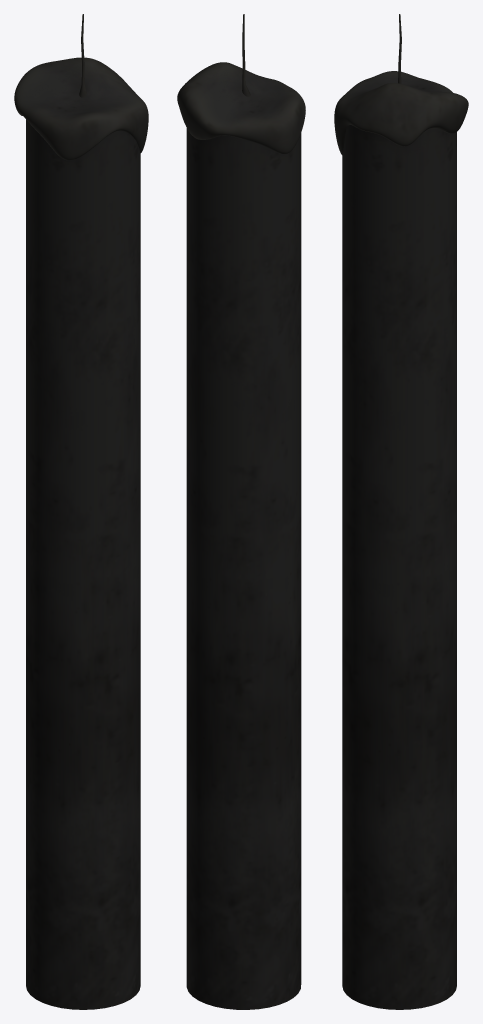
The model's file is Vela1.fbx.
3 renders of one model, left to right at view 1: azimuth 90°, elevation 25°; view 2: azimuth 150°, elevation 25°; view 3: azimuth 270°, elevation 25°, orthographic.
Visible parts, largest first — view 1: Vela1; view 2: Vela1; view 3: Vela1.
Part boxes in pixels (x1,y1,x2,y2): Vela1: [14, 14, 148, 1009]; Vela1: [177, 14, 305, 1009]; Vela1: [334, 14, 468, 1009].
Bounding box in the file's own units: 12.17 × 98.58 × 12.36.
1 material, 1 textured.
